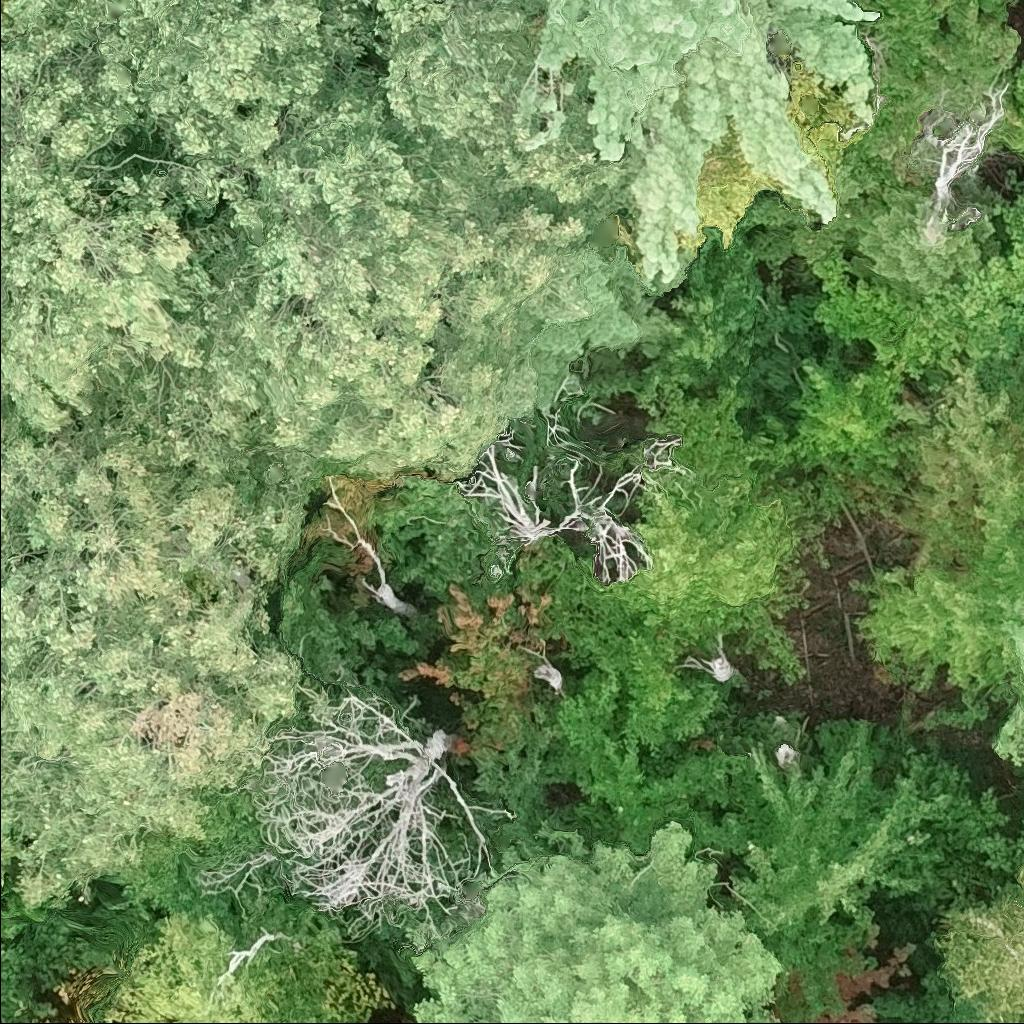crown: (0, 410, 309, 909), (722, 713, 973, 1021), (409, 819, 784, 1023), (248, 682, 518, 939), (105, 912, 351, 1023), (929, 861, 1023, 1023), (993, 595, 1023, 765)
